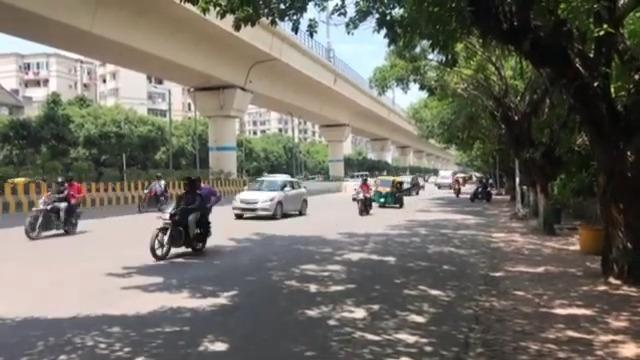Auto: (371, 174, 404, 208)
Bike: (149, 173, 216, 261), (23, 172, 82, 240), (137, 170, 169, 212), (351, 174, 373, 216), (470, 177, 494, 202), (451, 177, 464, 197)
Car: (231, 173, 308, 219)
